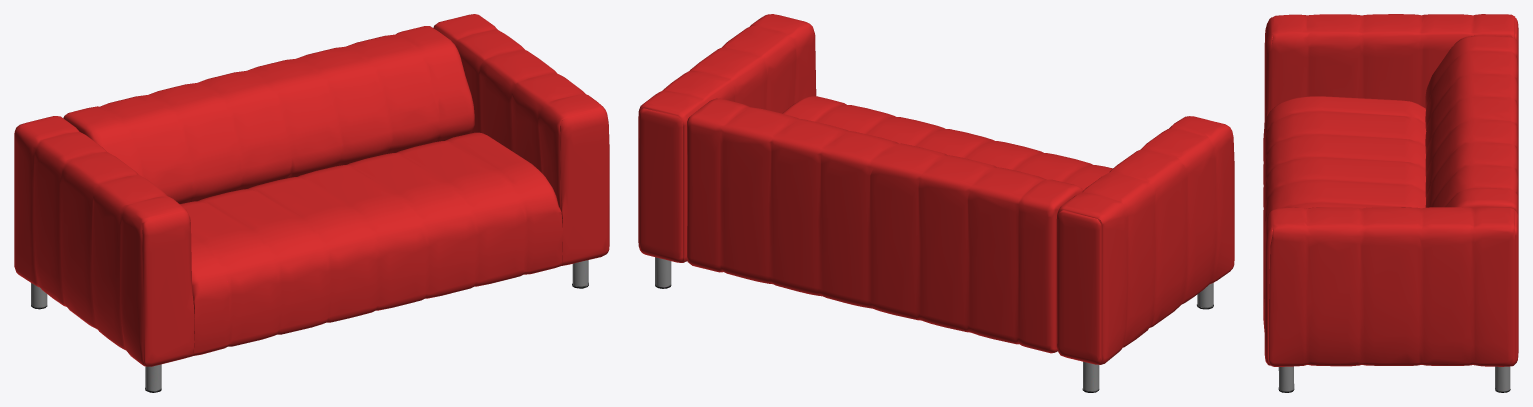
Rendered from klippan_loveseat_langban_bright_red.glb.
3 renders of one model, left to right at view 1: azimuth 30°, elevation 25°; view 2: azimuth 150°, elevation 25°; view 3: azimuth 270°, elevation 25°, orthographic. The views are drawn at different scales.
Parts seen in each view (by area): view 1: Mesh_0; view 2: Mesh_0; view 3: Mesh_0.
Boxes of the visible parts, bbox=[...] form: Mesh_0: bbox=[14, 14, 609, 392]; Mesh_0: bbox=[638, 14, 1234, 392]; Mesh_0: bbox=[1263, 14, 1518, 392].
Bounding box in the file's own units: 1.79 × 0.6569 × 0.8796.
Materials: 1 (1 with a texture image).
